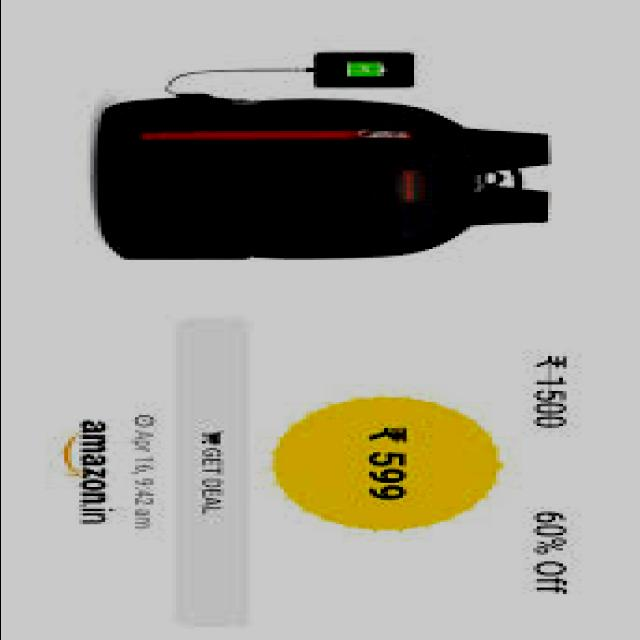backpack: (98, 93, 556, 261)
